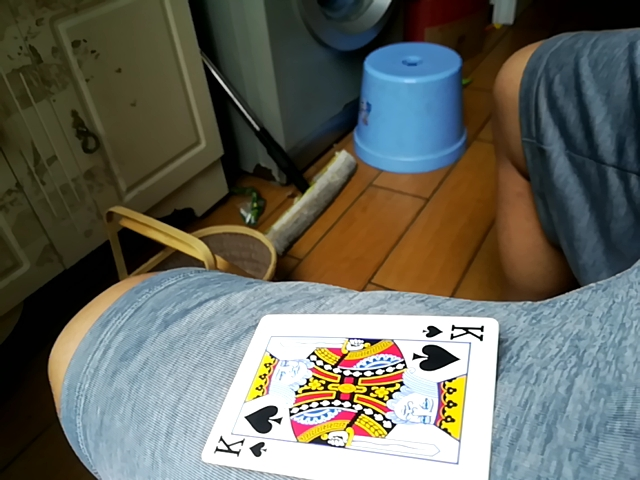ht k: (198, 310, 497, 479)
